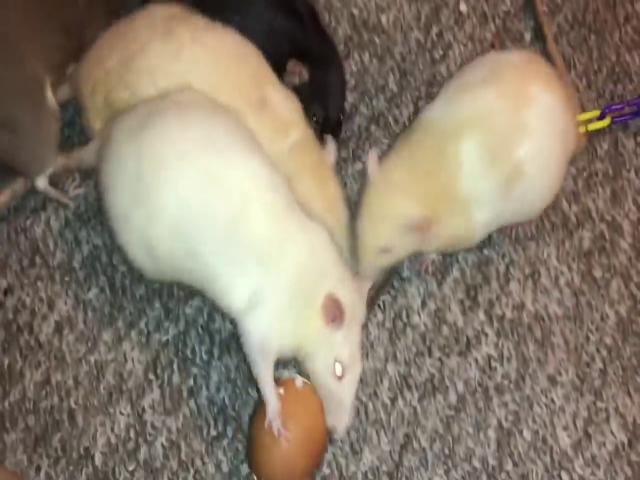Tikus: (58, 87, 366, 440), (356, 0, 586, 283)
